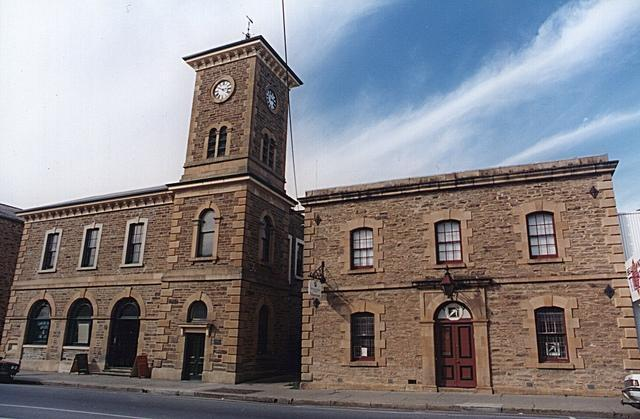car: (620, 374, 640, 410), (0, 357, 20, 383)
